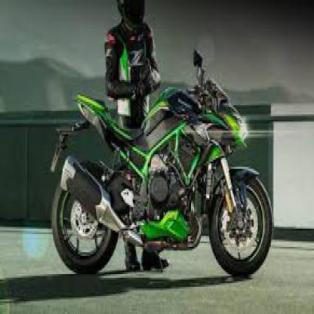Motocicleta: (45, 49, 277, 284)
